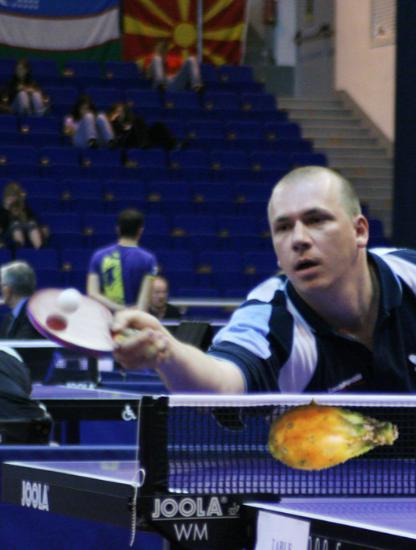Cactus: (266, 370, 400, 504)
